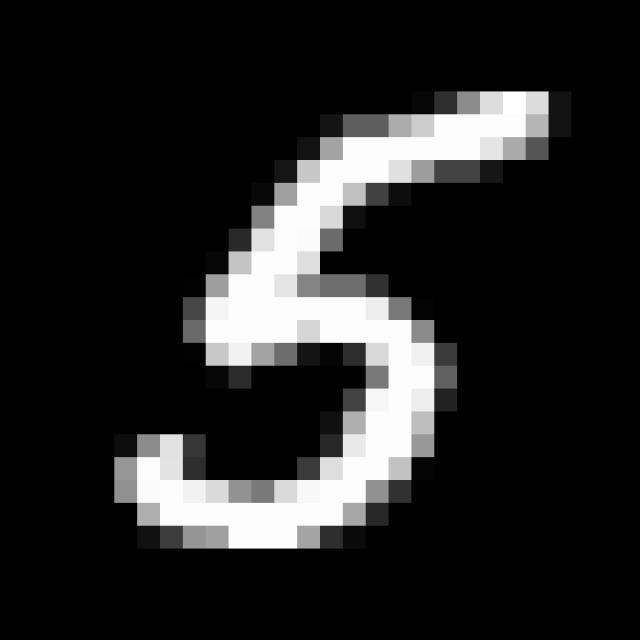five -5-: (112, 80, 561, 565)
